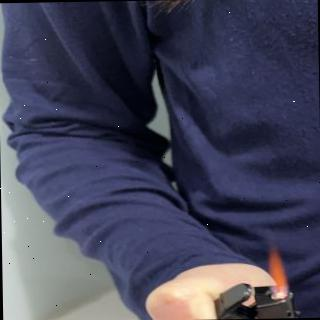fire: (264, 247, 292, 297)
